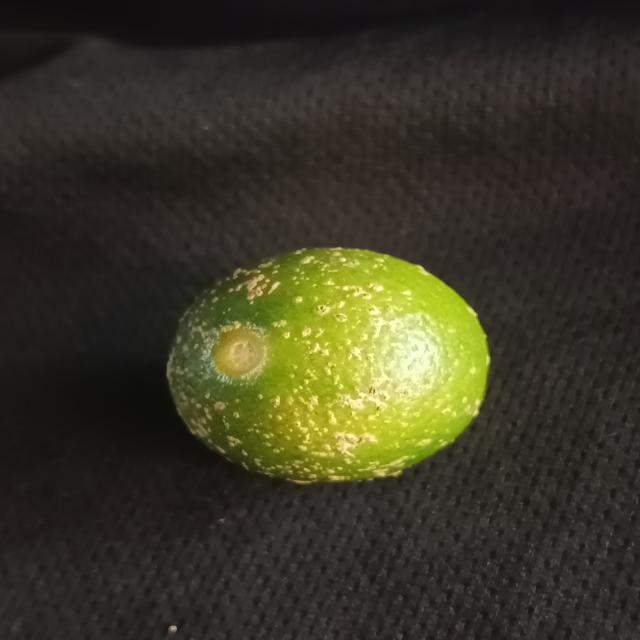scab: (156, 246, 495, 491)
